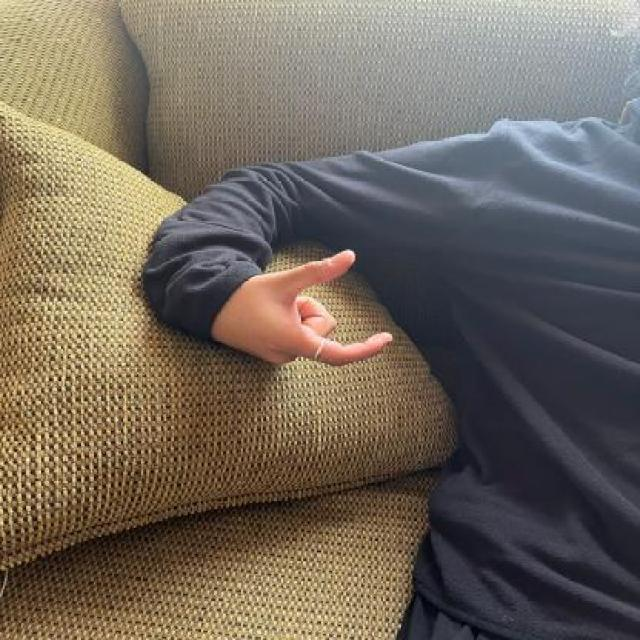G: (211, 244, 398, 371)
